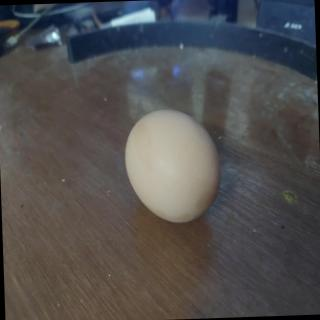Telur: (122, 106, 228, 231)
